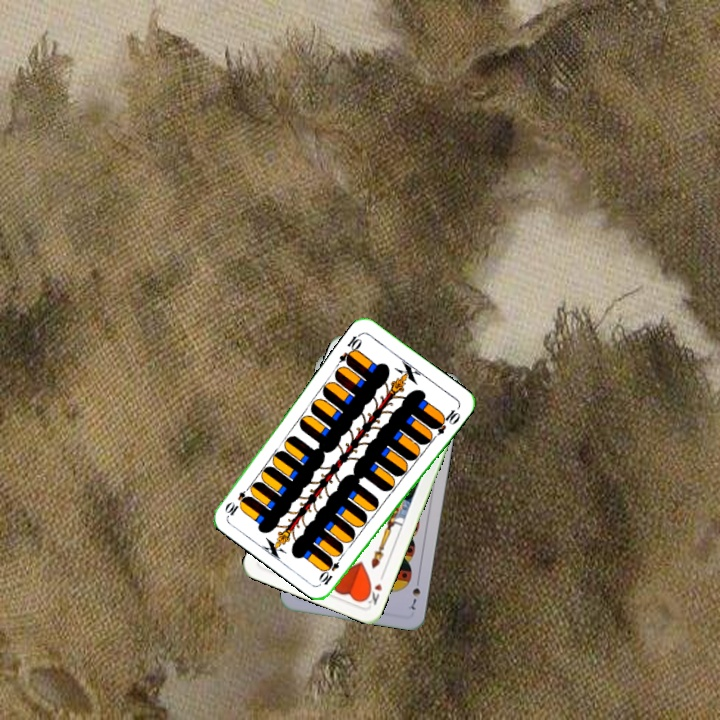E10: (316, 550, 346, 588), (335, 330, 365, 368)
HK: (361, 569, 387, 608)
S7: (407, 574, 423, 612)
